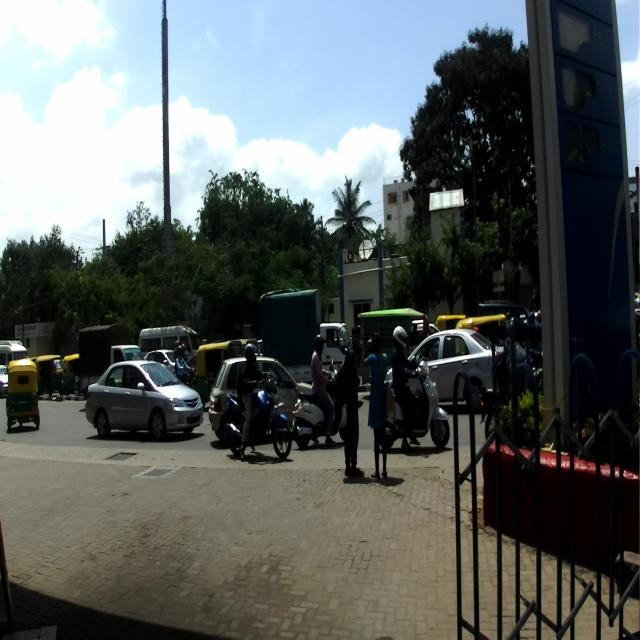car: (383, 327, 506, 407), (208, 354, 314, 444), (84, 358, 205, 434)
motorcycle: (225, 372, 292, 461)
scooter: (376, 358, 449, 449), (291, 358, 346, 448)
